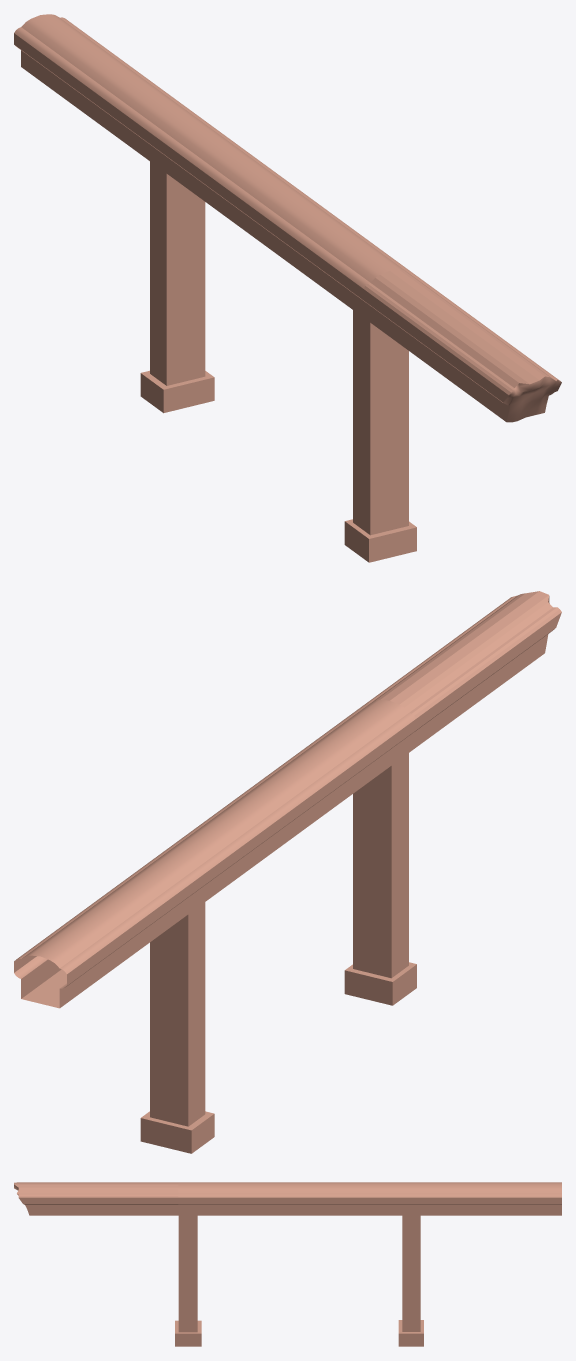
Rendered from Valla_De_Madera_002.fbx.
3 renders of one model, top to bottom at view 1: azimuth 30°, elevation 25°; view 2: azimuth 150°, elevation 25°; view 3: azimuth 270°, elevation 25°, orthographic. The views are drawn at different scales.
Visible parts, largest first — view 1: Vaya_004; view 2: Vaya_004; view 3: Vaya_004.
Part boxes in pixels (x1,y1,x2,y2): Vaya_004: [14, 14, 561, 562]; Vaya_004: [14, 591, 561, 1153]; Vaya_004: [14, 1182, 561, 1346].
Size of the model in its own units: 0.00233 by 0.0119 by 0.038.
